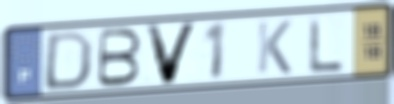1: (198, 20, 228, 82)
B: (95, 27, 145, 89)
D: (40, 29, 96, 92)
K: (255, 18, 294, 76)
L: (307, 14, 346, 76)
V: (142, 20, 202, 87)
